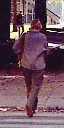person: (16, 18, 49, 110)
